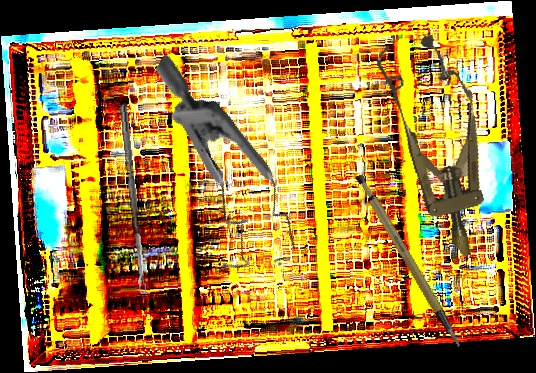Scalpel Handle: (351, 163, 463, 361)
Speculum: (87, 53, 348, 294), (369, 28, 510, 267)
Surgical Spoon: (118, 101, 147, 295)
